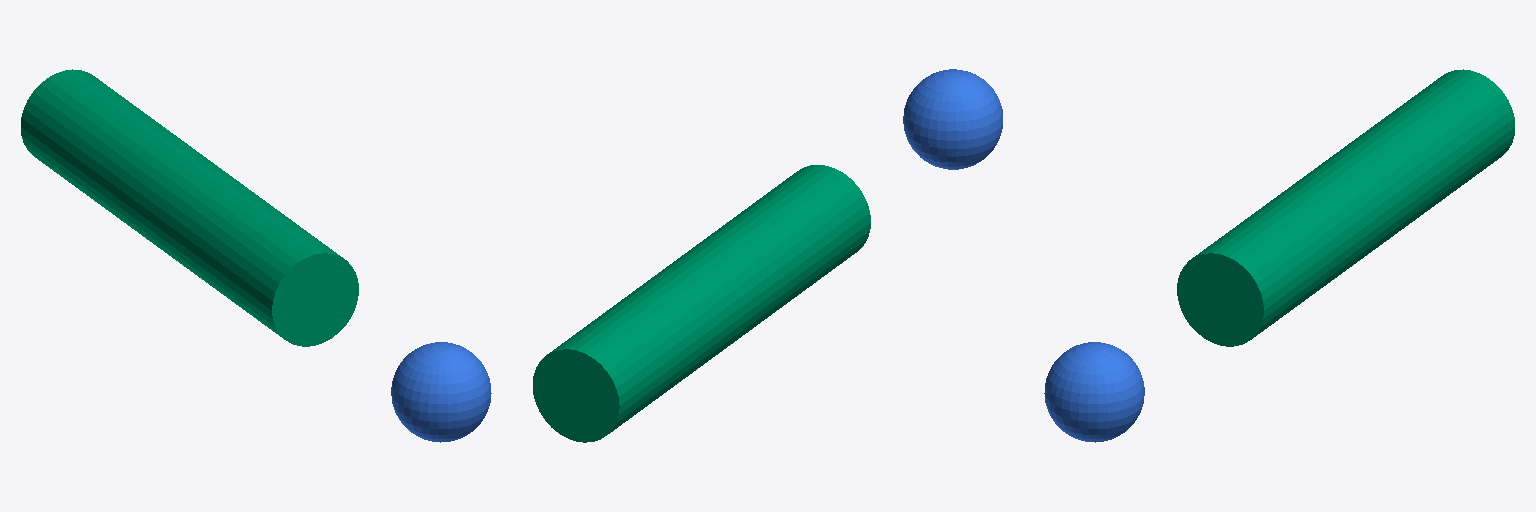
URDF robot description (pendulum):
<?xml version="1.0" encoding="utf-8"?>
<robot name="pendulum">
  <!--
  Author: Erwin Coumans <erwincoumans@google.com>
  Contributers:
-->
  
  <link name="world"/>
  <material name="Blue">
    <color rgba="0.28 0.52 0.92 1.0"/>
  </material>
  <link name="link0">
    <visual>
      <geometry>
        <sphere radius="0.05"/>
      </geometry>
      <origin rpy="0 0 0" xyz="0 0.5 0"/>
      <material name="Blue"/>
    </visual>
    <collision>
      <geometry>
        <sphere radius="0.05"/>
      </geometry>
      <origin rpy="0 0 0" xyz="0 0.5 0"/>
    </collision>
    <inertial>
      <origin rpy="0 0 0" xyz="0.0 0.5 0.0"/>
      <mass value="1."/>
      <inertia ixx="0.00494875" ixy="0" ixz="0" iyy="0.00494174" iyz="0" izz="0.002219"/>
    </inertial>
  </link>
  <joint name="joint0" type="continuous">
    <parent link="world"/>
    <child link="link0"/>
    <origin rpy="0 0 0" xyz="0 0 0"/>
    <axis xyz="1 0 0"/>
    <dynamics damping="1.0" friction="1.0"/>
  </joint>
  <link name="link1">
    <visual>
      <geometry>
        <cylinder length="0.5" radius="0.05"/>        
      </geometry>
      <origin rpy="1.57 0 0" xyz="0 0.5 0"/>
      <material name="Red"/>
    </visual>
    <collision>
      <geometry>
        <sphere radius="0.05"/>
      </geometry>
      <origin rpy="0 0 0" xyz="0 0.5 0"/>
    </collision>
    <inertial>
      <origin rpy="0 0 0" xyz="0 0.5 0"/>
      <mass value="2.16"/>
      <inertia ixx="0.00539427" ixy="0" ixz="0" iyy="0.0048979" iyz="0" izz="0.00311573"/>
    </inertial>
  </link>
  <joint name="joint1" type="continuous">
    <parent link="link0"/>
    <child link="link1"/>
    <origin rpy="0 0 0" xyz="0 0.5 0"/>
    <axis xyz="1 0 0"/>
    <dynamics damping="1.0" friction="1.0"/>
  </joint>
 
</robot>

--- What the picture shows (computed from the rendered views, not written in the file) ---
The picture shows the robot from 3 angles, left to right: view 1: azimuth 30°, elevation 25°; view 2: azimuth 150°, elevation 25°; view 3: azimuth 330°, elevation 25°; orthographic projection.
Robot: pendulum — 3 links, 2 joints (2 continuous); root link world; default pose: every joint at zero.
Visible links, largest first — view 1: link1, link0; view 2: link1, link0; view 3: link1, link0.
Link boxes in pixels (x1,y1,x2,y2): link1: (21, 69, 358, 346); link0: (391, 342, 491, 442); link1: (533, 165, 870, 442); link0: (903, 69, 1002, 169); link1: (1177, 69, 1514, 346); link0: (1044, 342, 1144, 442).
Size in the robot's own frame: 0.1 by 0.8 by 0.1004 metres.
Geometry: primitives only (box / cylinder / sphere), no mesh files.
